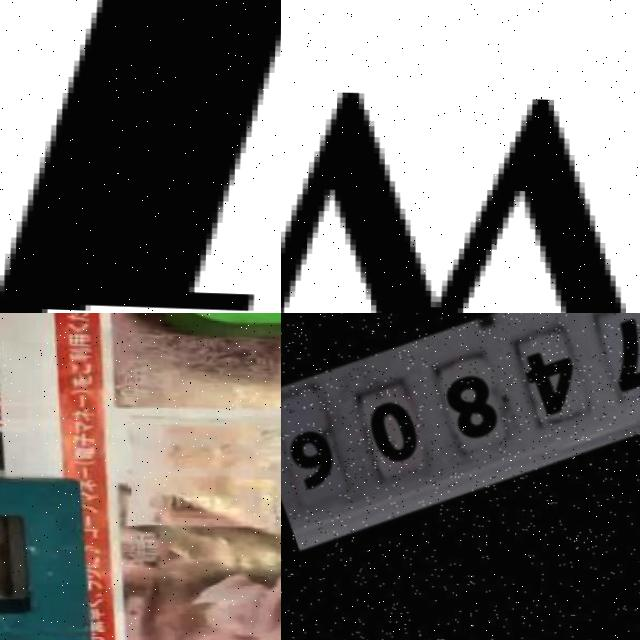0: (354, 381, 439, 486)
1: (0, 0, 281, 313)
4: (509, 328, 600, 438)
6: (281, 410, 353, 511)
7: (589, 313, 640, 409)
8: (430, 353, 517, 464)
D: (0, 471, 88, 640)
W: (281, 75, 640, 313)
